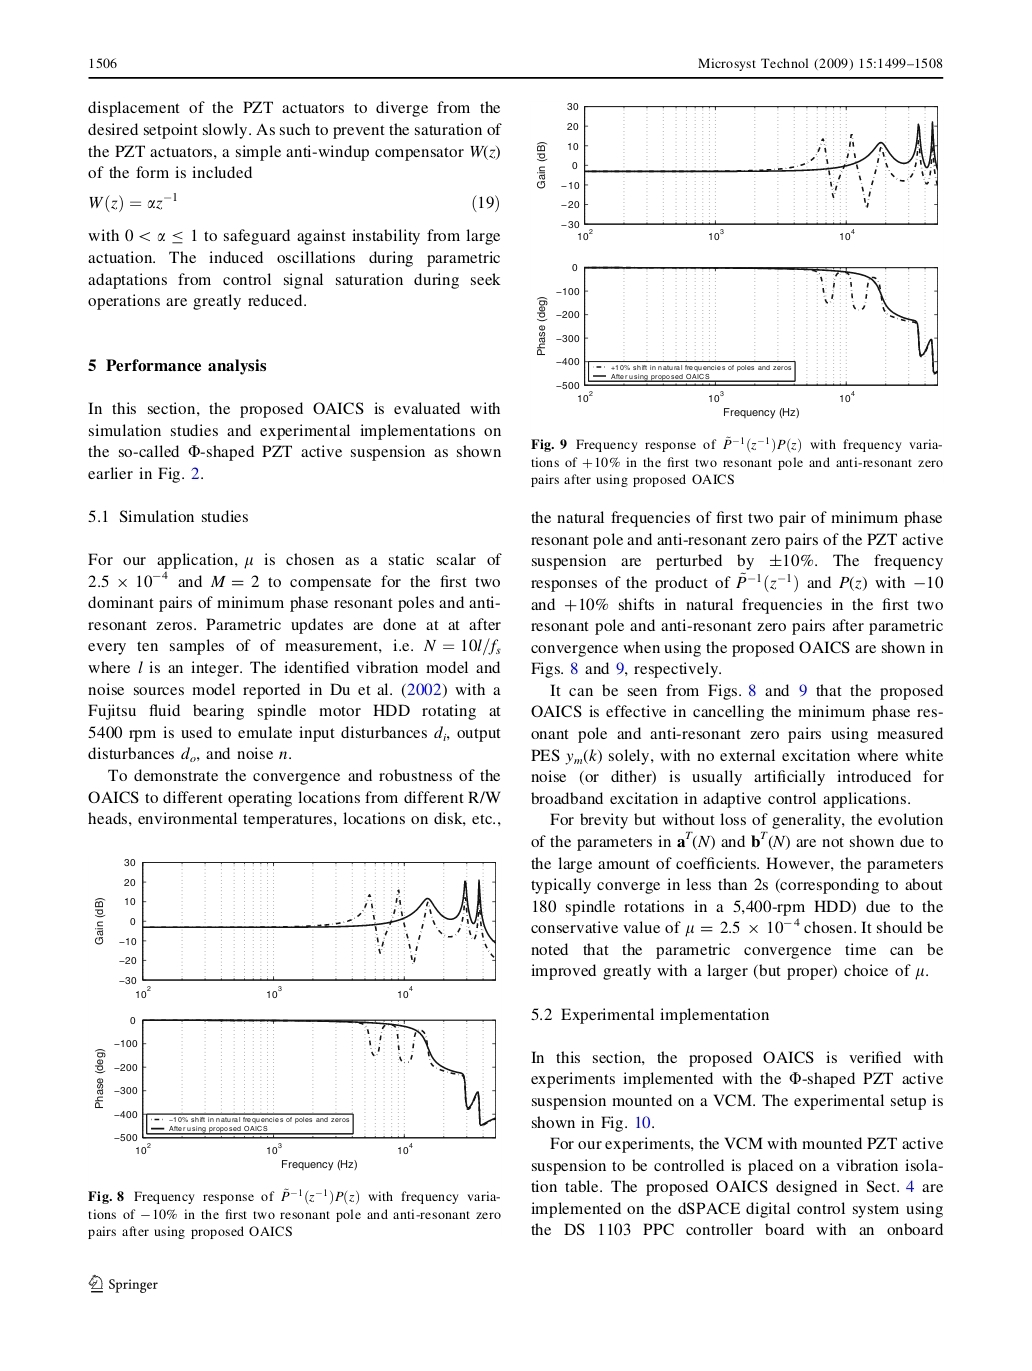figure: (94, 857, 495, 999), (95, 1016, 495, 1155), (537, 263, 937, 403), (536, 102, 937, 241)
formula: (89, 192, 498, 214)
